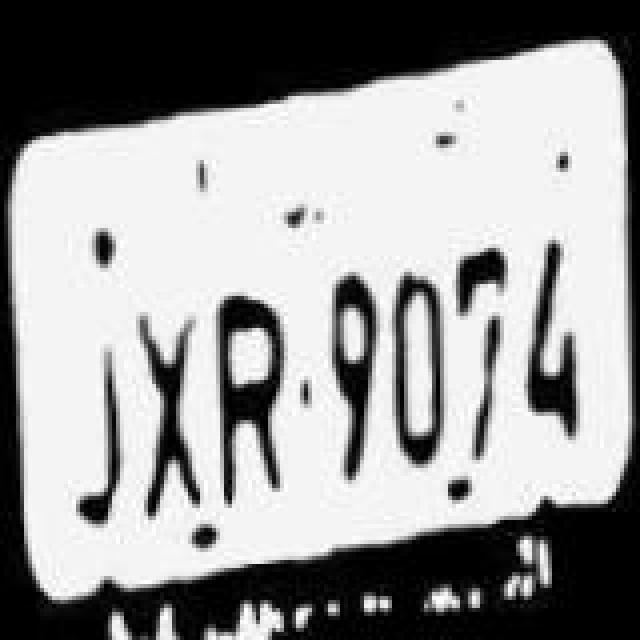4: (510, 226, 590, 450)
7: (436, 220, 512, 468)
9: (310, 240, 386, 480)
J: (64, 298, 132, 538)
O: (378, 248, 446, 472)
R: (202, 260, 294, 508)
X: (118, 284, 202, 516)
